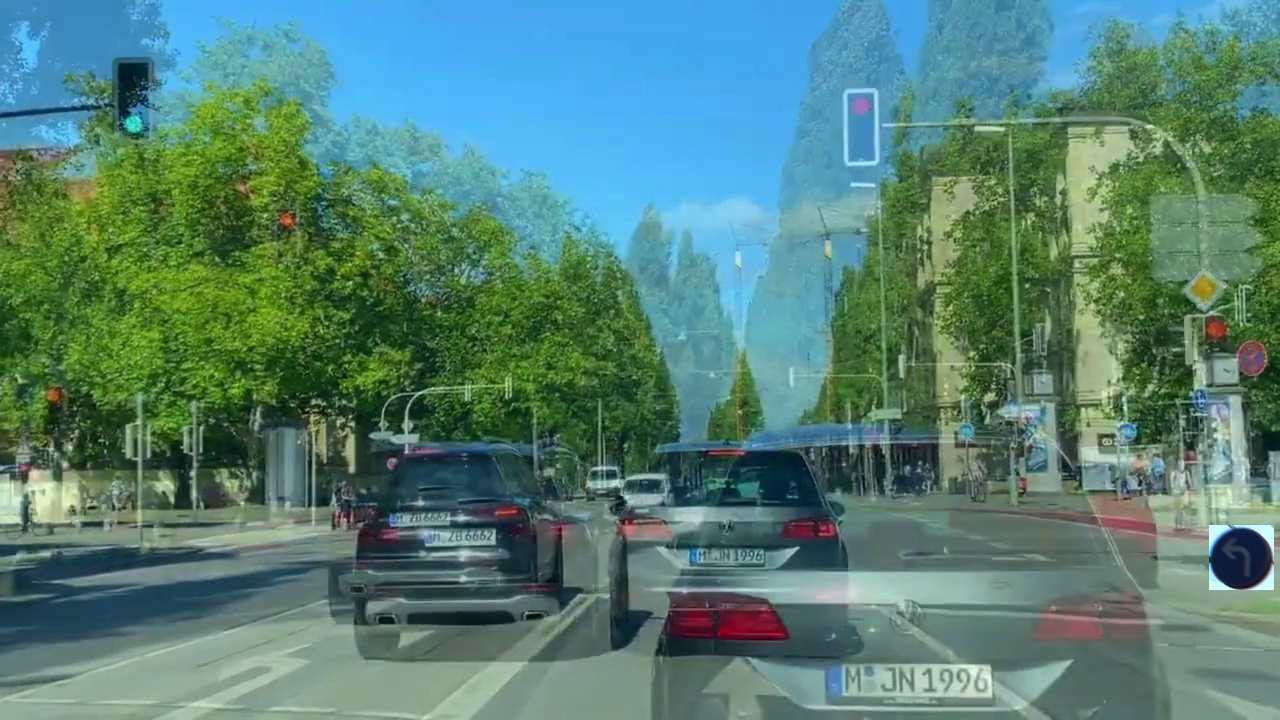Turn left: (1209, 525, 1274, 590)
